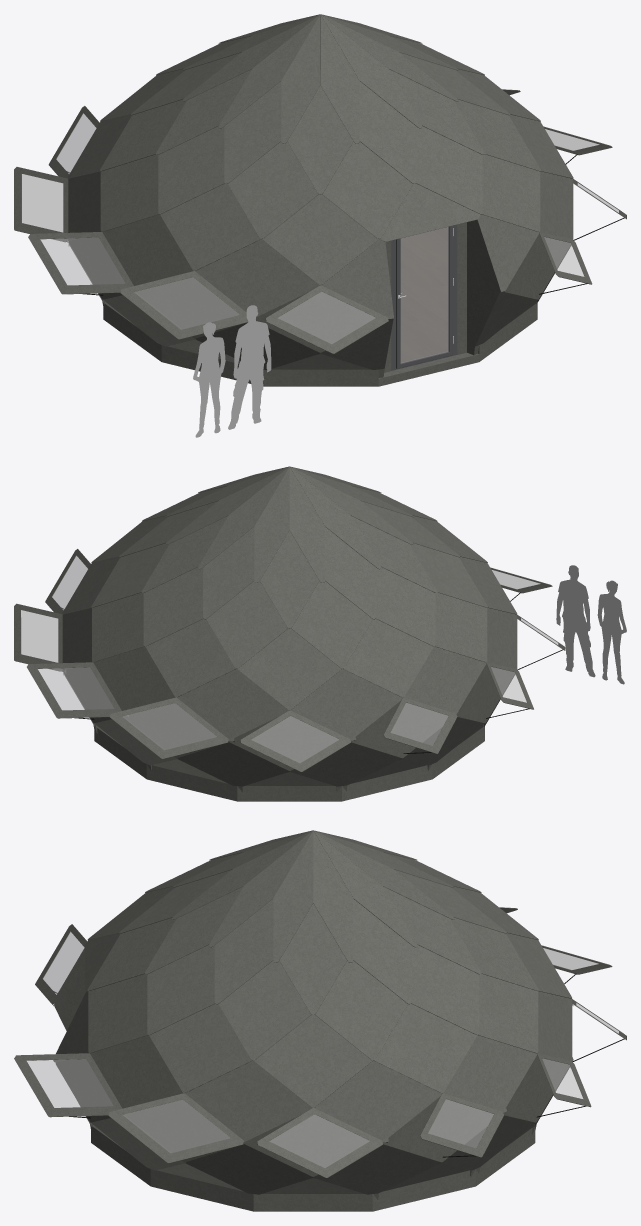
The model's file is zomes-300-draco.glb.
The picture shows the model from 3 angles, top to bottom: view 1: azimuth 30°, elevation 25°; view 2: azimuth 150°, elevation 25°; view 3: azimuth 270°, elevation 25°; orthographic projection. The views are drawn at different scales.
Parts seen in each view (by area): view 1: maindoor, entry-center-C-4, floor, panel-L1-E-1, man, window-glass-C-2.001, panel-L1-F-2, panel-L1-E-2, window-glass-C-3.001, panel-L1-F-1, window-glass-C-1.001, panel-L1-F-12 (+46 smaller); view 2: maindoor, entry-center-C-4, entry-center-C-6, entry-center-C-5, window-glass-C-6.001, man, panel-L1-F-5, panel-L1-F-6, window-glass-C-7.001, window-glass-C-5.001, entry-center-C-7, panel-L1-F-7 (+50 smaller); view 3: maindoor, entry-center-C-8, panel-L1-E-9, window-glass-C-10.001, panel-L1-F-9, panel-L1-E-10, window-glass-C-11.001, panel-L1-F-10, window-glass-C-9.001, entry-center-C-7, panel-L1-F-8, panel-L1-F-11 (+49 smaller).
Boxes of the visible parts, x1,y1,x2,y2 form: maindoor: (69,183,571,378); entry-center-C-4: (68,114,447,362); floor: (401,227,447,362); panel-L1-E-1: (262,196,378,285); man: (193,305,271,437); window-glass-C-2.001: (120,271,248,339); panel-L1-F-2: (228,141,318,238); panel-L1-E-2: (160,185,260,270); window-glass-C-3.001: (28,232,133,295); panel-L1-F-1: (322,143,412,238); window-glass-C-1.001: (265,285,388,353); panel-L1-F-12: (416,127,482,214); maindoor: (63,673,515,794); entry-center-C-4: (289,619,479,791); entry-center-C-6: (93,620,288,791); entry-center-C-5: (202,642,402,792); window-glass-C-6.001: (110,697,228,758); man: (556,565,626,684); panel-L1-F-5: (291,581,372,668); panel-L1-F-6: (206,582,287,668); window-glass-C-7.001: (27,662,121,719); window-glass-C-5.001: (240,710,350,771); entry-center-C-7: (62,594,168,768); panel-L1-F-7: (143,568,203,646); maindoor: (53,933,570,1203); entry-center-C-8: (331,1003,537,1199); panel-L1-E-9: (253,1016,372,1107); window-glass-C-10.001: (108,1093,243,1163); panel-L1-F-9: (315,962,407,1060); panel-L1-E-10: (149,1006,252,1093); window-glass-C-11.001: (14,1053,122,1118); panel-L1-F-10: (218,962,311,1060); window-glass-C-9.001: (257,1107,382,1177); entry-center-C-7: (443,976,572,1173); panel-L1-F-8: (411,945,479,1034); panel-L1-F-11: (147,945,214,1034).
Bounding box in the file's own units: 8.15 × 4.12 × 7.96.
19 materials, 8 textured.
